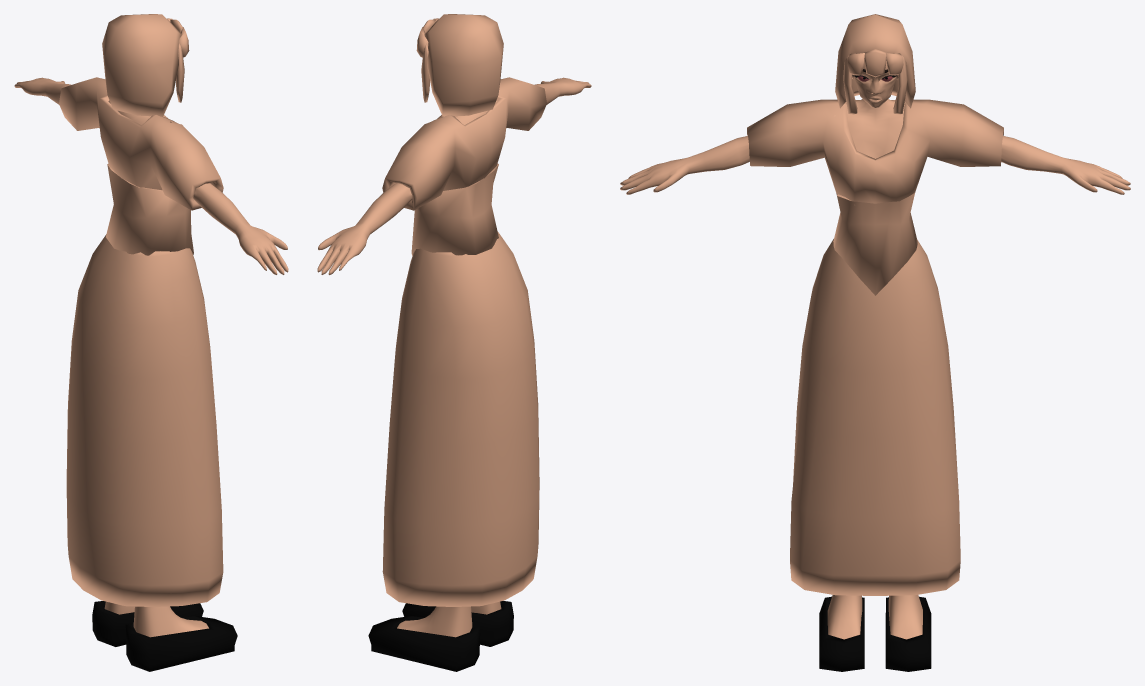
File: NPCWomen2.fbx
3 renders of one model, left to right at view 1: azimuth 30°, elevation 25°; view 2: azimuth 150°, elevation 25°; view 3: azimuth 270°, elevation 25°, orthographic. The views are drawn at different scales.
Visible parts, largest first — view 1: skirt2, shirt2, hairNPCW2, NPCwoman_body2, shoes2, corset2; view 2: skirt2, shirt2, hairNPCW2, NPCwoman_body2, shoes2, corset2; view 3: skirt2, shirt2, NPCwoman_body2, corset2, hairNPCW2, shoes2.
Boxes of the visible parts, x1,y1,x2,y2 form: skirt2: (66, 234, 223, 606); shirt2: (59, 77, 223, 210); hairNPCW2: (102, 14, 189, 116); NPCwoman_body2: (14, 77, 288, 637); shoes2: (92, 601, 237, 671); corset2: (106, 164, 193, 255); skirt2: (382, 232, 539, 606); shirt2: (382, 77, 546, 210); hairNPCW2: (416, 14, 503, 116); NPCwoman_body2: (317, 77, 591, 637); shoes2: (368, 601, 513, 671); corset2: (411, 163, 498, 255); skirt2: (790, 239, 960, 595); shirt2: (747, 99, 1003, 205); NPCwoman_body2: (620, 61, 1130, 639); corset2: (833, 192, 917, 295); hairNPCW2: (835, 14, 915, 114); shoes2: (819, 596, 931, 671).
Bounding box in the file's own units: 302 × 1328 × 992.
